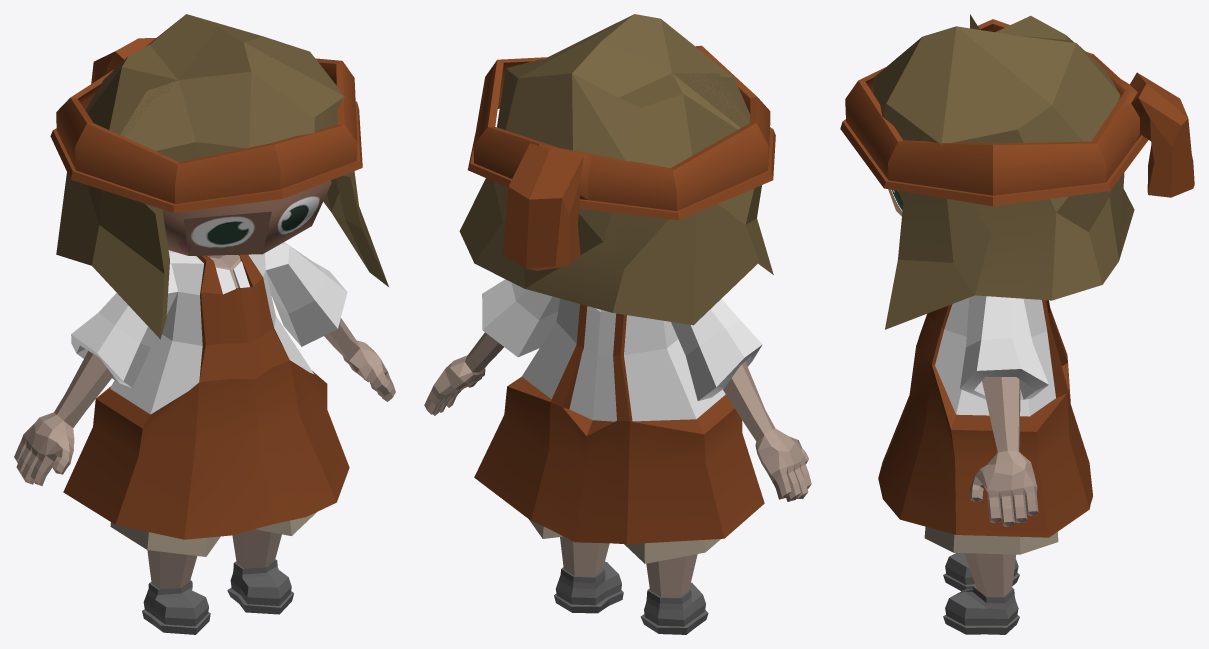
Rendered from Vendedor.fbx.
3 renders of one model, left to right at view 1: azimuth 30°, elevation 25°; view 2: azimuth 150°, elevation 25°; view 3: azimuth 270°, elevation 25°, orthographic.
Parts seen in each view (by area): view 1: VENDEDOR_CUERPO, VENDEDOR_PELO, VENDEDOR_VINCHA, VENDEDOR_CABEZA, VENDEDOR_BRAZO_DER, VENDEDOR_BRAZO_IZQ; view 2: VENDEDOR_CUERPO, VENDEDOR_PELO, VENDEDOR_VINCHA, VENDEDOR_BRAZO_DER, VENDEDOR_BRAZO_IZQ; view 3: VENDEDOR_PELO, VENDEDOR_CUERPO, VENDEDOR_VINCHA, VENDEDOR_BRAZO_IZQ.
Part boxes in pixels (x1,y1,x2,y2): VENDEDOR_CUERPO: (63, 242, 349, 634); VENDEDOR_PELO: (56, 14, 388, 339); VENDEDOR_VINCHA: (50, 38, 362, 212); VENDEDOR_CABEZA: (162, 180, 331, 255); VENDEDOR_BRAZO_DER: (14, 351, 113, 485); VENDEDOR_BRAZO_IZQ: (324, 318, 395, 401); VENDEDOR_CUERPO: (474, 279, 764, 634); VENDEDOR_PELO: (459, 14, 773, 325); VENDEDOR_VINCHA: (467, 45, 775, 270); VENDEDOR_BRAZO_DER: (723, 361, 811, 501); VENDEDOR_BRAZO_IZQ: (424, 332, 503, 415); VENDEDOR_PELO: (873, 14, 1134, 329); VENDEDOR_CUERPO: (878, 295, 1092, 634); VENDEDOR_VINCHA: (840, 19, 1194, 206); VENDEDOR_BRAZO_IZQ: (969, 376, 1038, 526).
Size of the model in its own units: 3.54 by 5.3 by 2.92.
8 materials, 1 textured.
